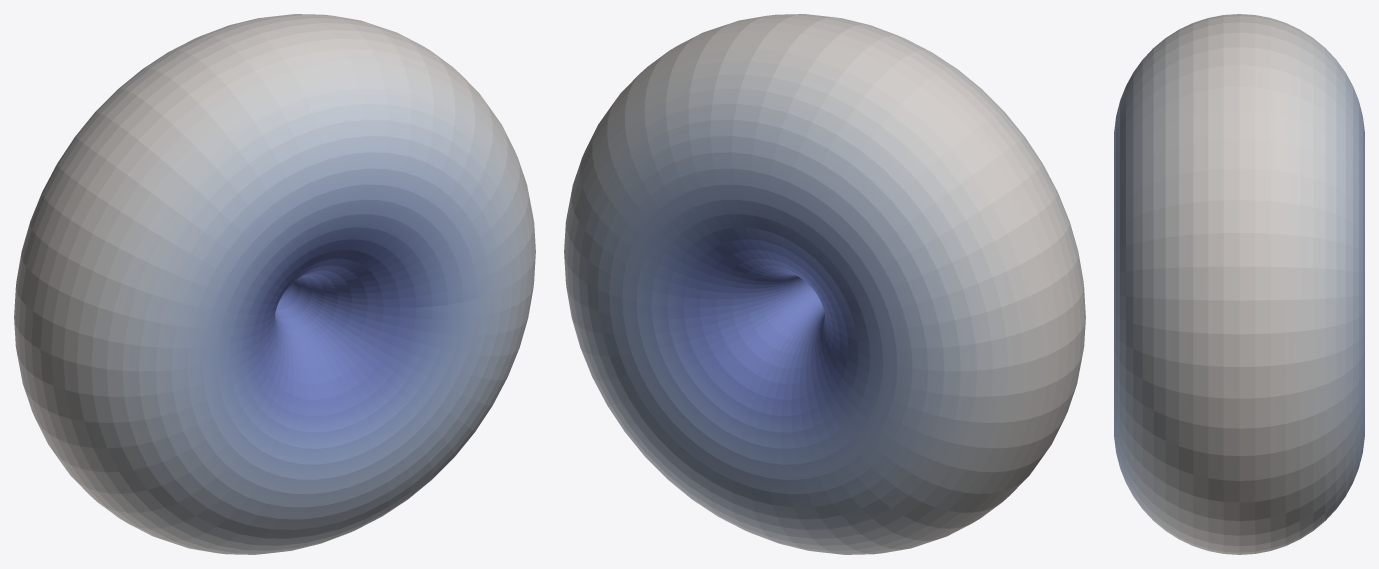
The picture shows the model from 3 angles, left to right: view 1: azimuth 30°, elevation 25°; view 2: azimuth 150°, elevation 25°; view 3: azimuth 270°, elevation 25°; orthographic projection. The views are drawn at different scales.
Visible parts, largest first — view 1: world; view 2: world; view 3: world.
Part boxes in pixels (x1,y1,x2,y2): world: (14, 14, 535, 554); world: (564, 14, 1085, 554); world: (1114, 14, 1364, 554).
Size of the model in its own units: 18.67 by 18.63 by 8.65.
